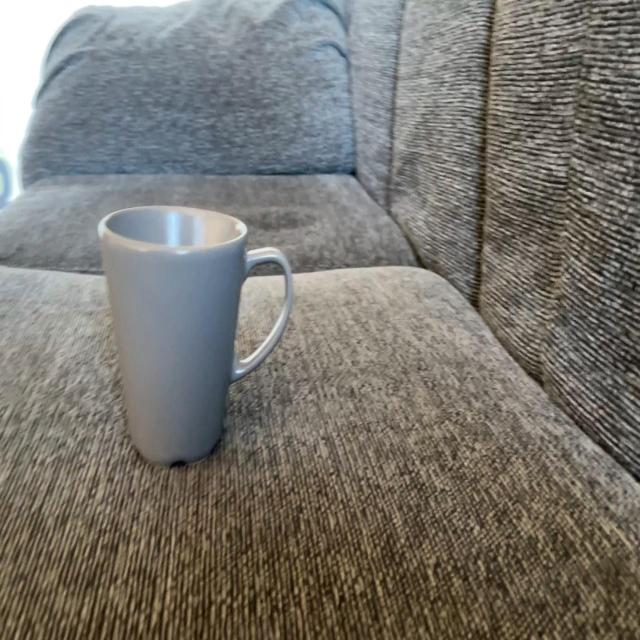cup: (95, 203, 293, 470)
